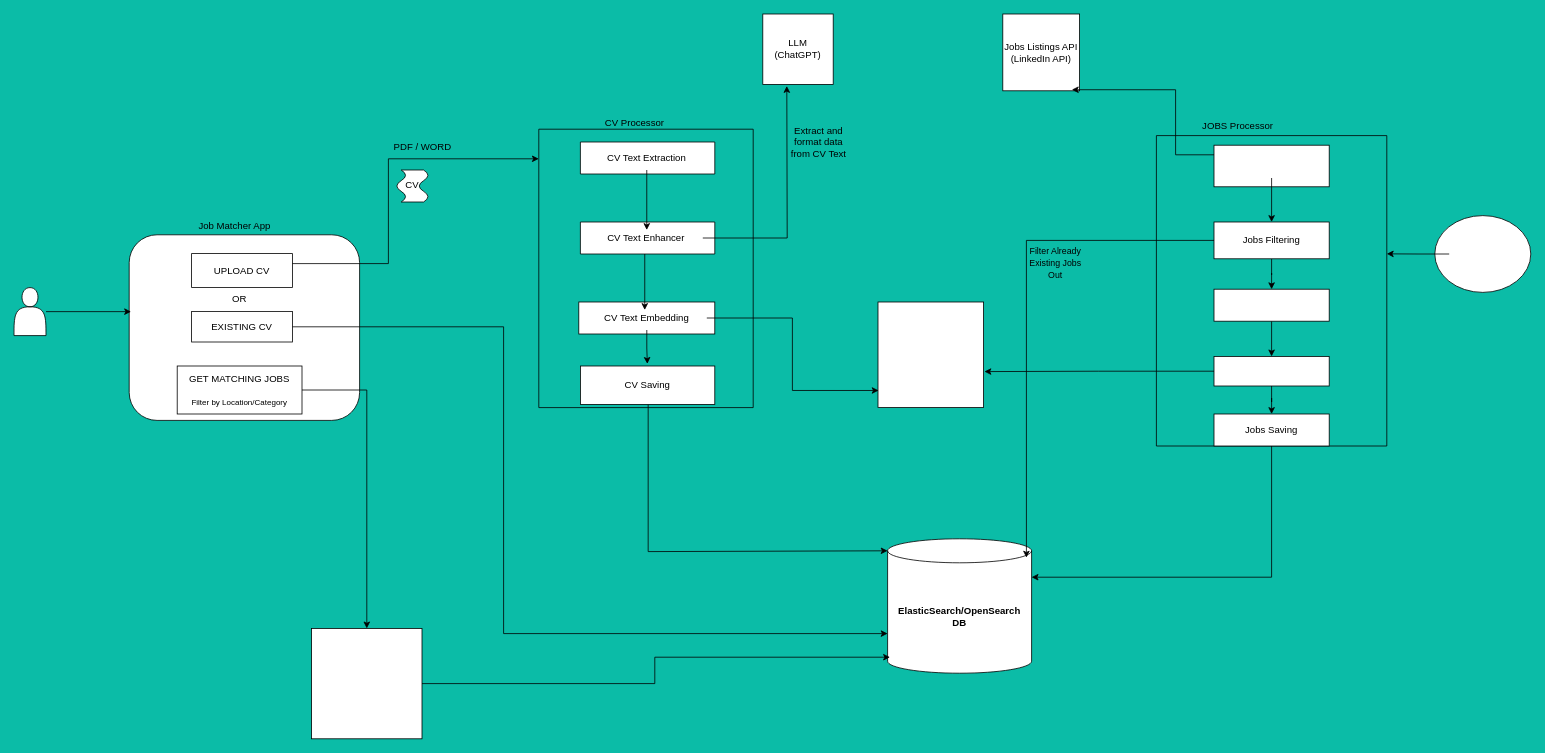
Some shapes in this 1545 by 753 pixel diagram are drawn without their labels. Each missing label, with the box of its shape:
Asynchronous JOB 2 times / day: (1434, 215, 1531, 292)
EMBEDDING MODEL (BERT / Other Model): (877, 301, 984, 408)
Jobs Details Format: (1213, 288, 1329, 321)
Jobs Embedding: (1213, 356, 1329, 386)
Jobs Finder: (1213, 144, 1329, 187)
VECTOR SIMILARITY MATCHING: (311, 628, 422, 739)
